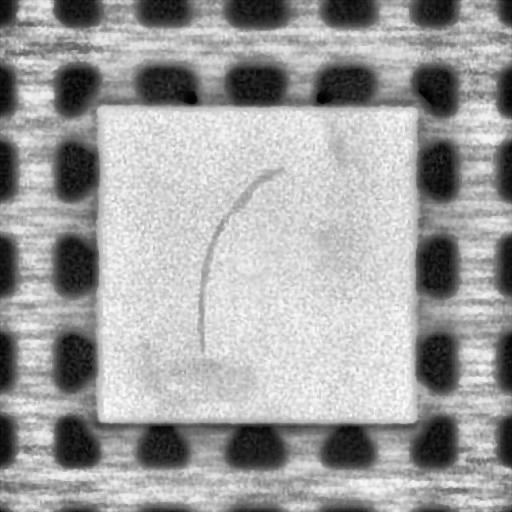DIE_CRACK: (191, 165, 283, 354)
